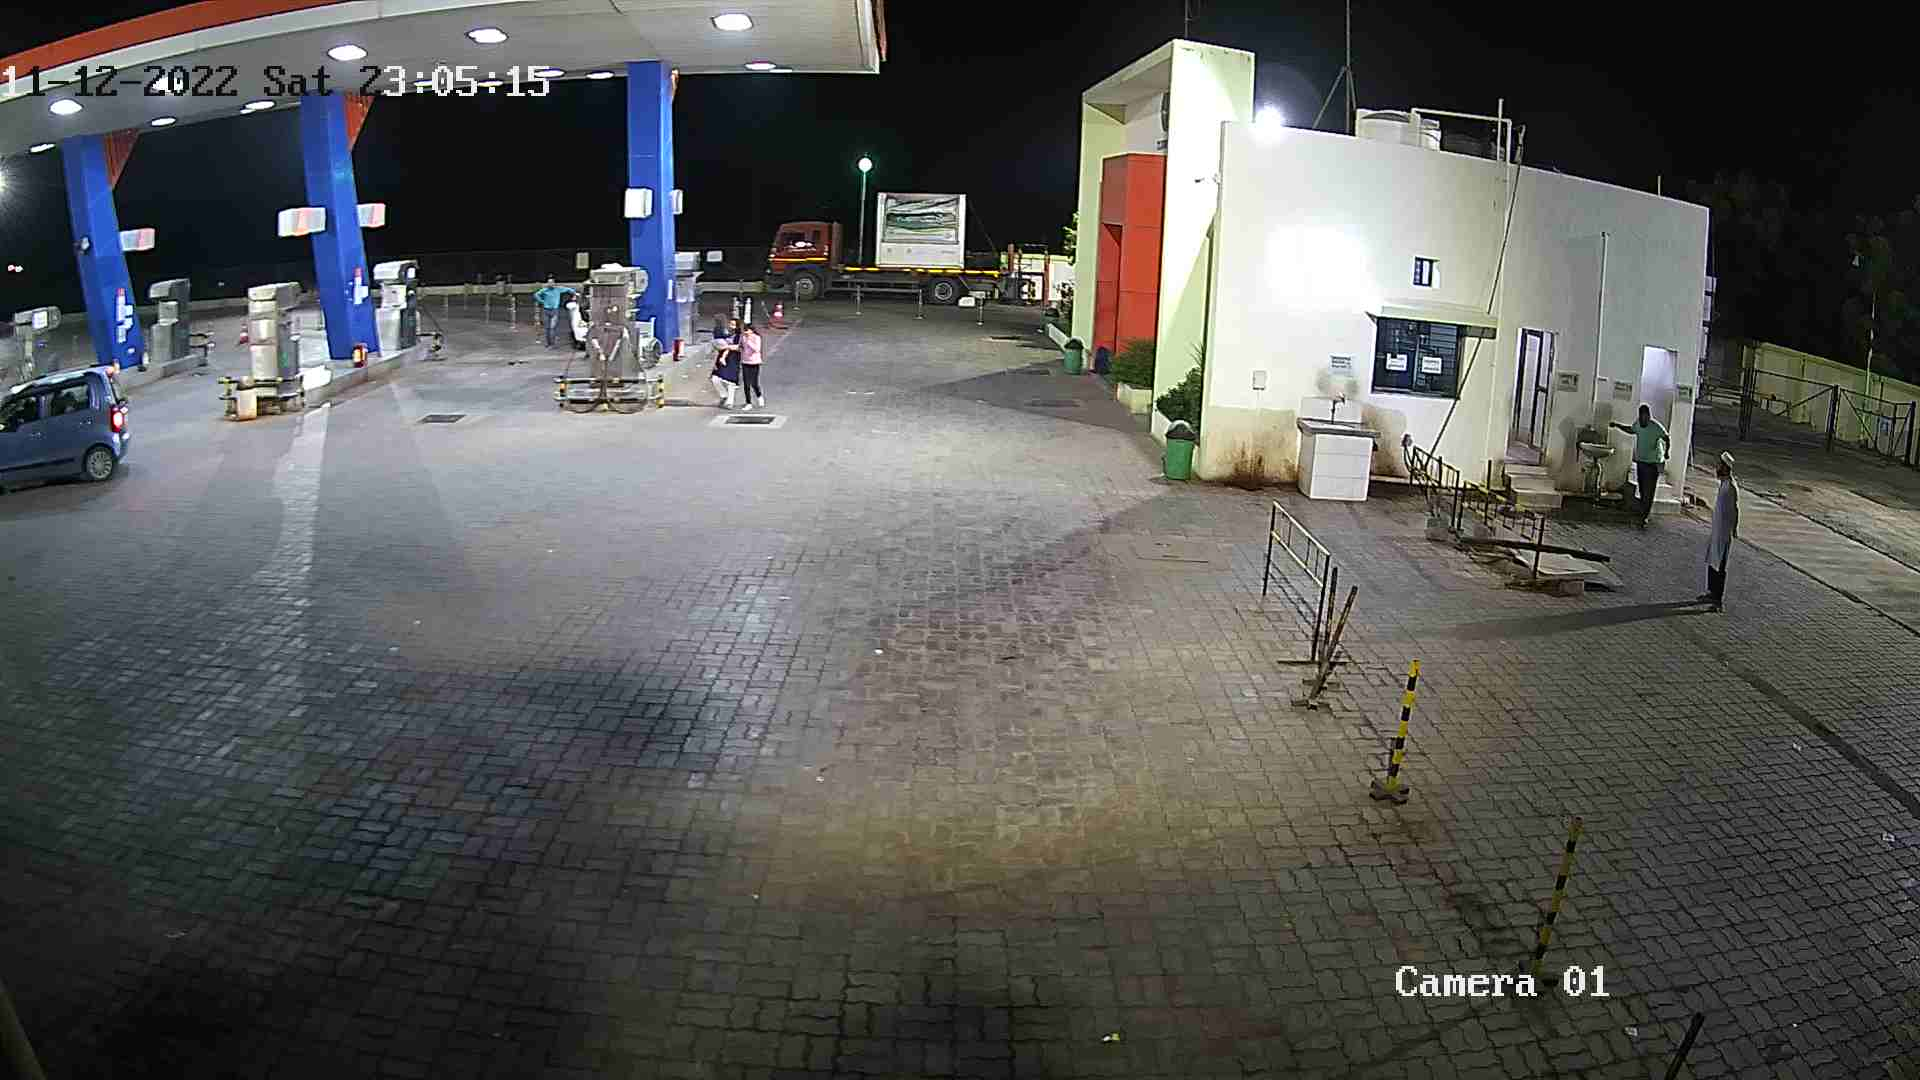Car: (0, 352, 141, 513), (556, 262, 615, 353)
HMV: (758, 179, 1044, 307)
